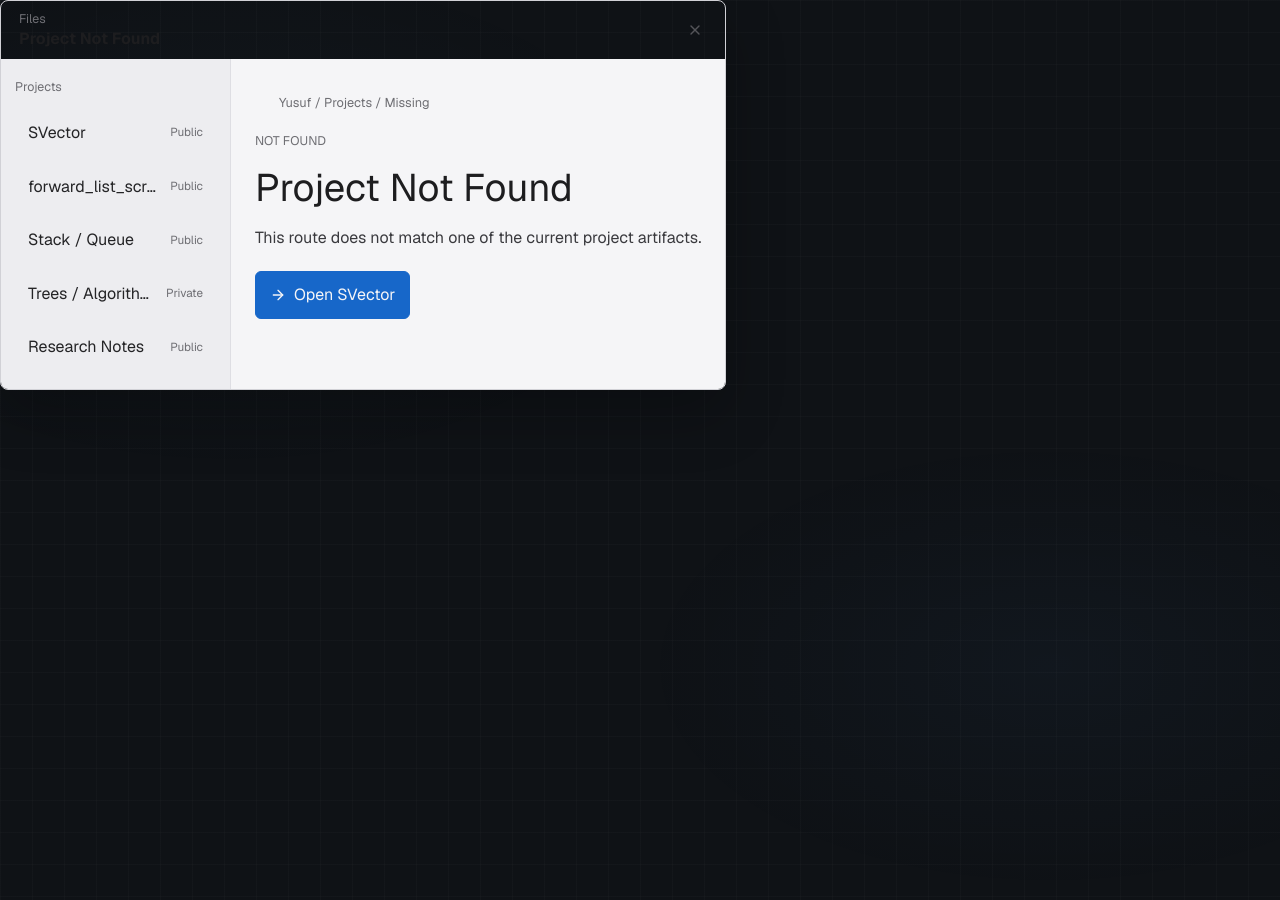
Test: keeps the frame visible for an unknown project id and offers a fallback action
Expected: the heading "Project Not Found" below "Yusuf / Projects / Missing" is shown, 255,162 -> 573,212
Click the link "Open SVector" at (333, 295), box 255,271 -> 410,319
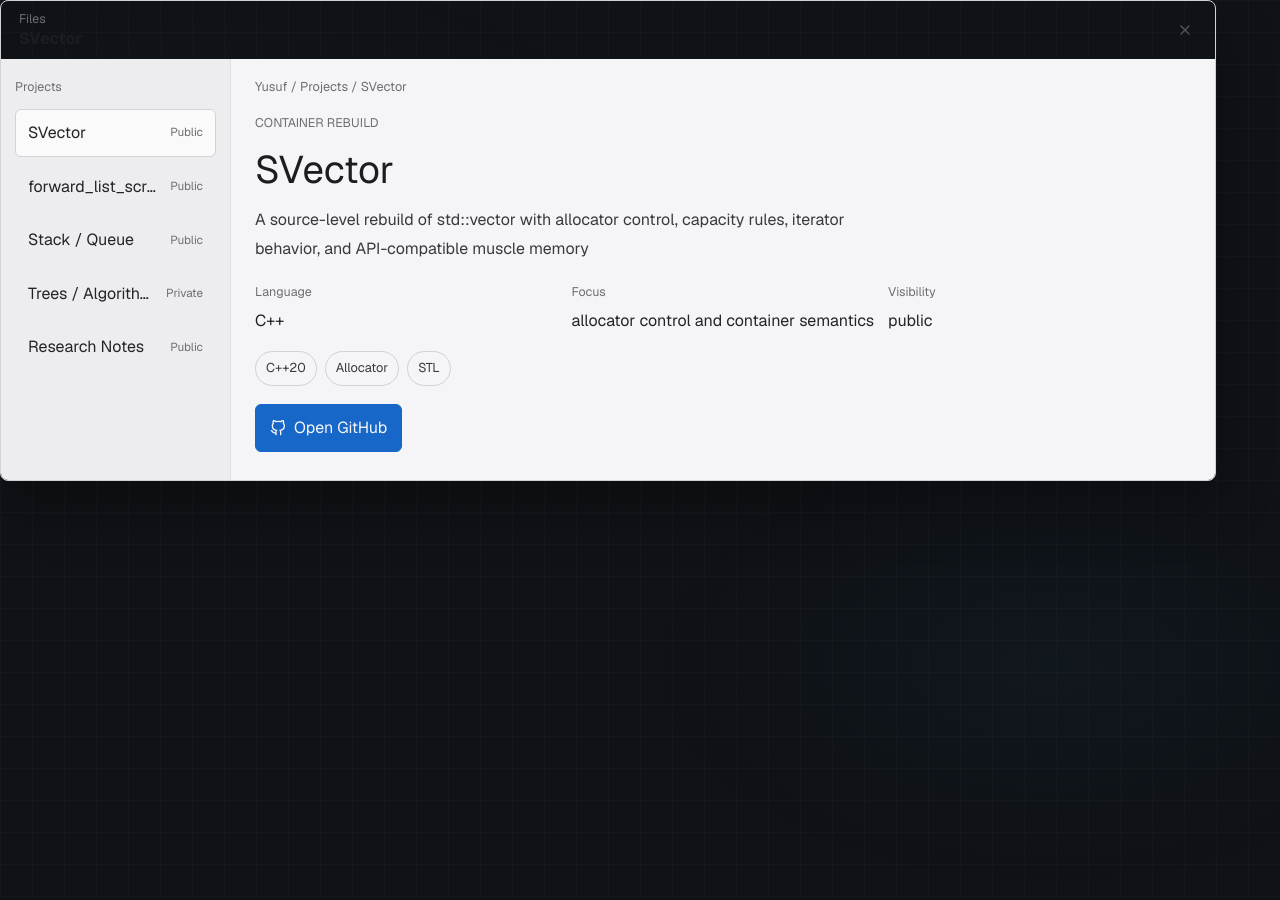
Now the heading "SVector" below "container rebuild" is shown, box 255,144 -> 394,194
